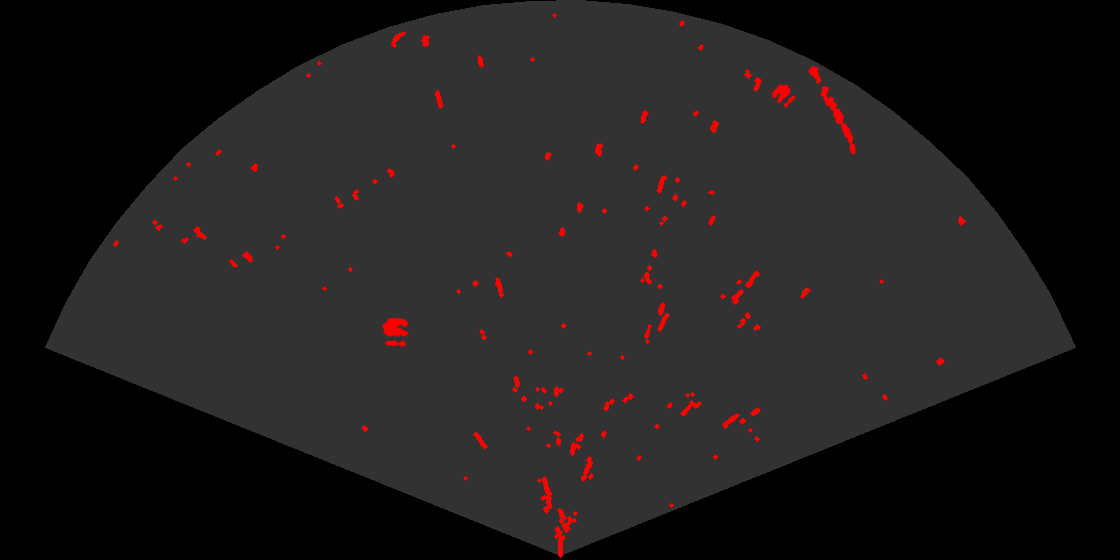ball: (380, 316, 410, 348), (770, 82, 797, 109)
chain: (807, 64, 857, 156)
